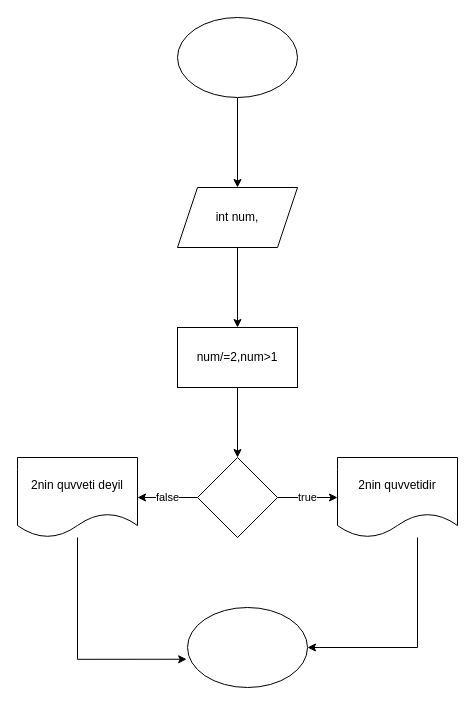
Image size: 475x705. Some labels were removed from this diagram. The shapes that lost their labels are listed below. From the top down, each one's centre as x and y in pixels, then its label:
At point (237, 57): "start".
At point (237, 497): "num==1".
